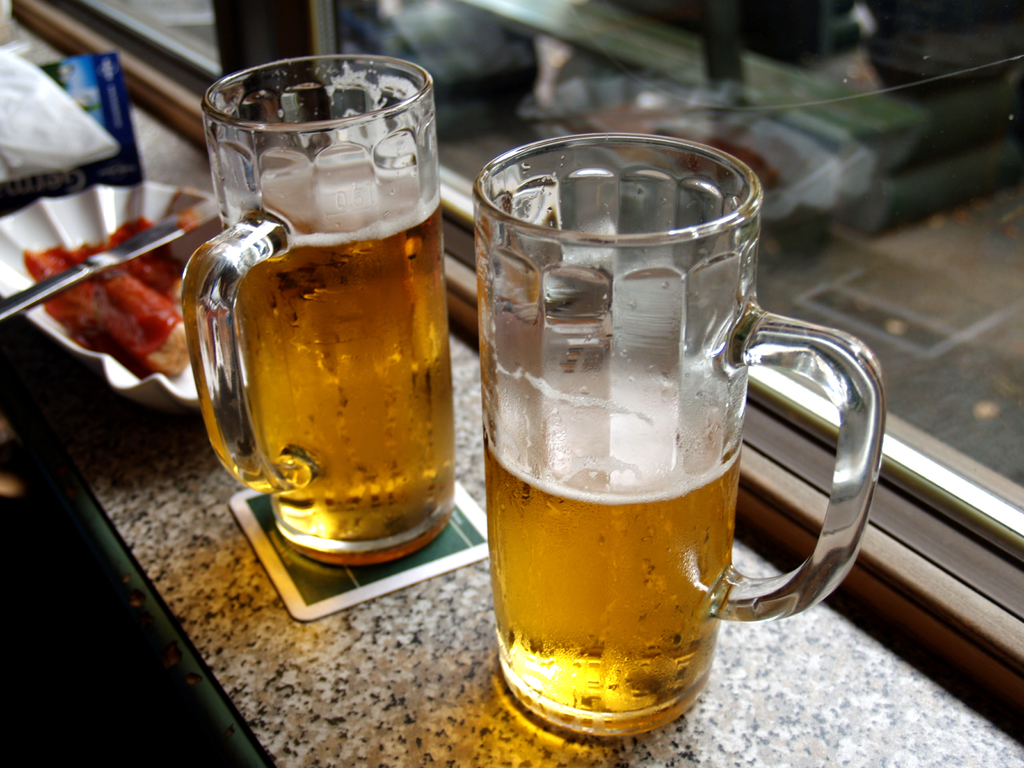Beer: (485, 373, 741, 725), (237, 214, 453, 547)
